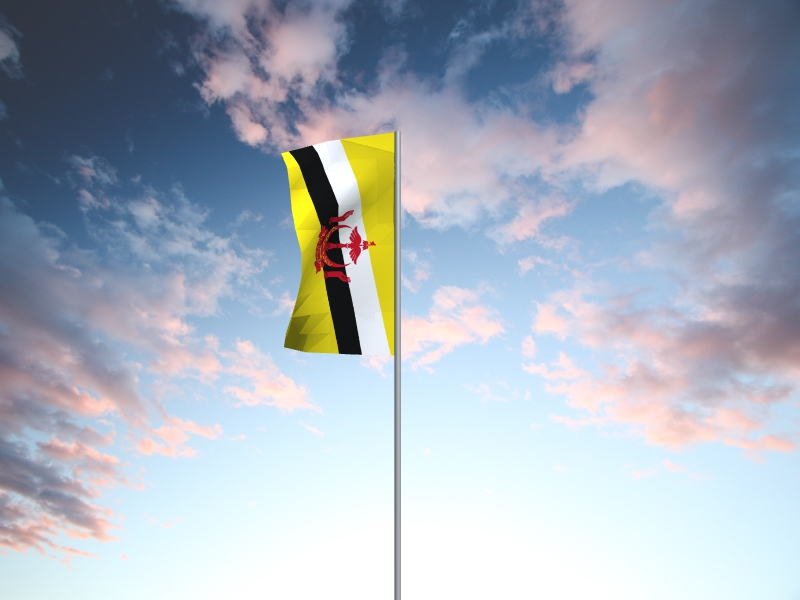bn: (280, 134, 395, 355)
